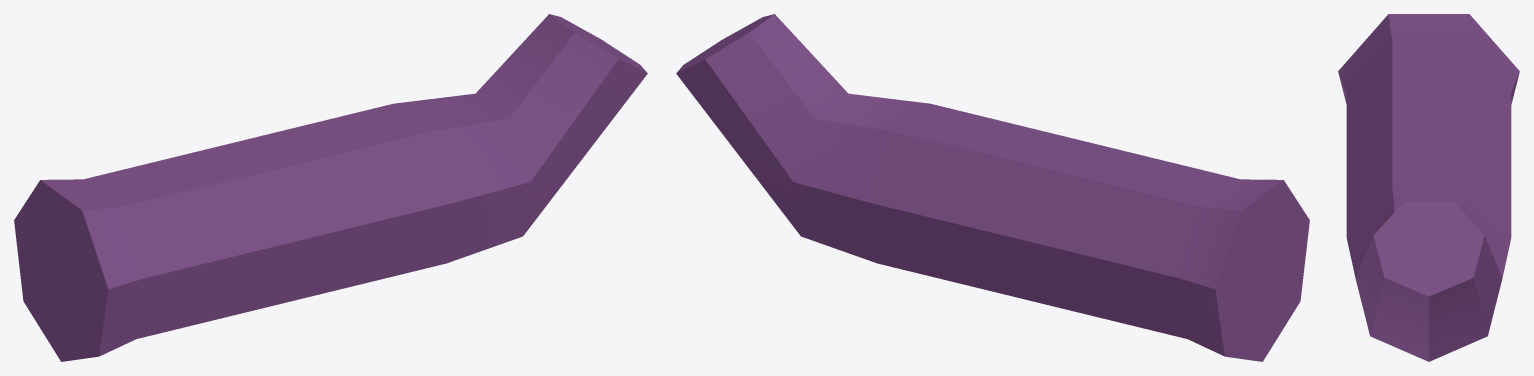
File: TreeBranch.fbx
3 views of the same model, side by side, from view 1: azimuth 30°, elevation 25°; view 2: azimuth 150°, elevation 25°; view 3: azimuth 270°, elevation 25° (orthographic). The views are drawn at different scales.
Parts seen in each view (by area): view 1: pCylinder1; view 2: pCylinder1; view 3: pCylinder1.
Part boxes in pixels (x1=…): pCylinder1: x1=14, y1=14, x2=647, y2=361; pCylinder1: x1=676, y1=14, x2=1309, y2=361; pCylinder1: x1=1338, y1=14, x2=1519, y2=361.
Bounding box in the file's own units: 13.82 × 4.94 × 3.9.
